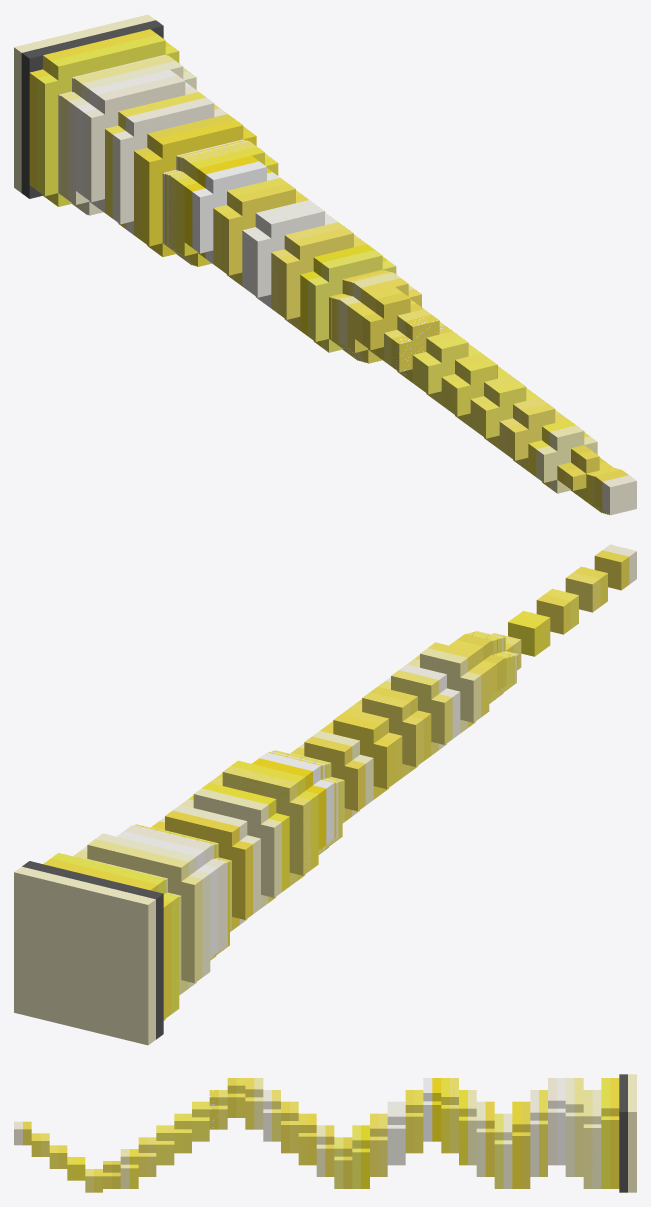
File: ThunderLordThunderClap.obj
3 renders of one model, top to bottom at view 1: azimuth 30°, elevation 25°; view 2: azimuth 150°, elevation 25°; view 3: azimuth 270°, elevation 25°, orthographic. The views are drawn at different scales.
Visible parts, largest first — view 1: ThunderLordThunderClap; view 2: ThunderLordThunderClap; view 3: ThunderLordThunderClap.
Part boxes in pixels (x1,y1,x2,y2): ThunderLordThunderClap: [14, 14, 636, 515]; ThunderLordThunderClap: [14, 544, 636, 1045]; ThunderLordThunderClap: [14, 1074, 636, 1192].
Bounding box in the file's own units: 10 × 10 × 70.
